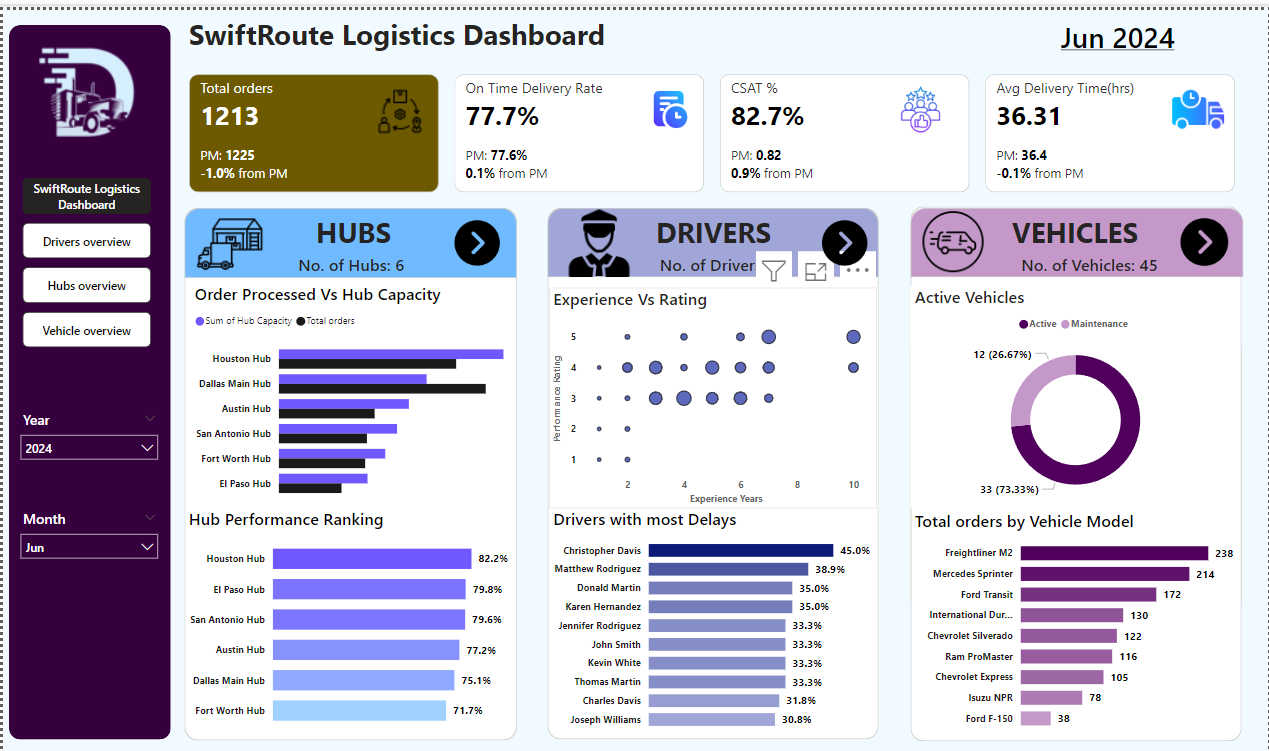

The dashboard page shown, as its layout file describes it:
{"tool":"powerbi","page":{"name":"SwiftRoute Logistics Dashboard","canvas":[1450,850],"ordinal":0},"visuals":[{"type":"shape","box":[6.2,16.7,185.4,818.8],"z":0},{"type":"textbox","box":[207.8,0,517.6,64.7],"z":1000},{"type":"cardVisual","fields":{"Data":["Orders.Total orders","Orders.On Time Delivery Rate","Orders.CSAT %","Orders.Avg Delivery Time(hrs)"]},"box":[208,64,1210,150],"z":2000},{"type":"slicer","fields":{"Values":["Date Table.Year"]},"box":[7.6,450.4,183.9,73.2],"z":3000},{"type":"slicer","fields":{"Values":["Date Table.Month"]},"box":[7.6,562.9,183.9,73.2],"z":4000},{"type":"shape","box":[207.8,227.5,380.4,609.8],"z":5000},{"type":"shape","box":[207.8,227.5,380.4,80],"z":6000},{"type":"textbox","box":[212.5,227.1,377.1,64.6],"z":7000},{"type":"cardVisual","fields":{"Data":["Hubs.No. of Hubs"]},"box":[320.8,272.9,160.4,39.6],"z":8000},{"type":"clusteredBarChart","title":"Order Processed Vs Hub Capacity","fields":{"Category":["Hubs.HubName"],"Y":["Sum(Hubs.Hub Capacity)","Orders.Total orders"]},"box":[215.4,313.5,376.9,257.7],"z":9000},{"type":"barChart","title":"Hub Performance Ranking","fields":{"Category":["Hubs.HubName"],"Y":["Orders.On Time Delivery Rate"]},"box":[207.7,571.2,376.9,263.5],"z":10000},{"type":"shape","box":[622.9,227.1,379.2,608.3],"z":11000},{"type":"shape","box":[1039.6,225,379.2,612.5],"z":12000},{"type":"shape","box":[622.9,227.1,379.2,79.2],"z":13000},{"type":"shape","box":[1039.6,227.1,381.2,79.2],"z":14000},{"type":"textbox","box":[625,227.1,377.1,64.6],"z":15000},{"type":"cardVisual","fields":{"Data":["Drivers.No. of Drivers"]},"box":[735.4,272.9,202.1,39.6],"z":16000},{"type":"textbox","box":[1039.6,227.1,377.1,64.6],"z":17000},{"type":"cardVisual","fields":{"Data":["Orders.No. of Vehicles"]},"box":[1150,273.1,211.5,40.4],"z":18000},{"type":"scatterChart","title":"Experience Vs Rating","fields":{"X":["Drivers.Experience Years"],"Y":["Drivers.Performance Rating"],"Size":["Sum(Drivers.Experience Years)1"]},"box":[625,317.3,376.9,253.8],"z":19000},{"type":"barChart","title":"Drivers with most Delays","fields":{"Category":["Orders.Driver Name"],"Y":["Orders.Delayed Delivery Rate"]},"box":[625,571.2,376.9,263.5],"z":20000},{"type":"donutChart","title":"Active Vehicles","fields":{"Category":["Vehicles.Vehicle Status"],"Y":["CountNonNull(Vehicles.Vehicle ID)"]},"box":[1039.6,317,377.4,254.7],"z":21000},{"type":"barChart","fields":{"Category":["Vehicles.Vehicle Model"],"Y":["Orders.Total orders"]},"box":[1039.6,571.7,377.4,262.3],"z":22000},{"type":"image","box":[1.9,32.1,190.6,132.1],"z":23000},{"type":"cardVisual","fields":{"Data":["Orders.Year Month Title"]},"box":[1137.7,11.3,279.2,39.6],"z":24000},{"type":"image","box":[937.5,226.8,51.8,80.4],"z":25000},{"type":"image","box":[517.9,226.8,51.8,80.4],"z":26000},{"type":"pageNavigator","box":[22.6,192.5,147.2,194.3],"z":27000},{"type":"image","box":[1349.1,224.5,54.7,81.1],"z":28000},{"type":"image","box":[628.3,228.3,107.5,77.4],"z":28001},{"type":"image","box":[215.1,228.3,90.6,79.2],"z":28002},{"type":"image","box":[1052.8,224.5,69.8,81.1],"z":28003},{"type":"image","box":[724.5,86.8,79.2,52.8],"z":28004},{"type":"image","box":[1007.5,86.8,88.7,52.8],"z":28005},{"type":"image","box":[1335.8,79.2,67.9,69.8],"z":28007},{"type":"image","box":[430.2,84.9,50.9,64.2],"z":28008}]}

Visuals, with their boxes on the page's 1450x850 design canvas (x1, y1, x2, y2). These are canvas units, not pixel positions in the 1269x751 screenshot, which may show the page scaled, cropped or inside an application window:
shape: [left=6, top=17, right=192, bottom=836]
textbox: [left=208, top=0, right=725, bottom=65]
cardVisual - Orders.Total orders x Orders.On Time Delivery Rate: [left=208, top=64, right=1418, bottom=214]
slicer - Date Table.Year: [left=8, top=450, right=192, bottom=524]
slicer - Date Table.Month: [left=8, top=563, right=192, bottom=636]
shape: [left=208, top=228, right=588, bottom=837]
shape: [left=208, top=228, right=588, bottom=308]
textbox: [left=212, top=227, right=590, bottom=292]
cardVisual - Hubs.No. of Hubs: [left=321, top=273, right=481, bottom=312]
"Order Processed Vs Hub Capacity" clusteredBarChart: [left=215, top=314, right=592, bottom=571]
"Hub Performance Ranking" barChart: [left=208, top=571, right=585, bottom=835]
shape: [left=623, top=227, right=1002, bottom=835]
shape: [left=1040, top=225, right=1419, bottom=838]
shape: [left=623, top=227, right=1002, bottom=306]
shape: [left=1040, top=227, right=1421, bottom=306]
textbox: [left=625, top=227, right=1002, bottom=292]
cardVisual - Drivers.No. of Drivers: [left=735, top=273, right=938, bottom=312]
textbox: [left=1040, top=227, right=1417, bottom=292]
cardVisual - Orders.No. of Vehicles: [left=1150, top=273, right=1362, bottom=314]
"Experience Vs Rating" scatterChart: [left=625, top=317, right=1002, bottom=571]
"Drivers with most Delays" barChart: [left=625, top=571, right=1002, bottom=835]
"Active Vehicles" donutChart: [left=1040, top=317, right=1417, bottom=572]
barChart - Vehicles.Vehicle Model x Orders.Total orders: [left=1040, top=572, right=1417, bottom=834]
image: [left=2, top=32, right=192, bottom=164]
cardVisual - Orders.Year Month Title: [left=1138, top=11, right=1417, bottom=51]
image: [left=938, top=227, right=989, bottom=307]
image: [left=518, top=227, right=570, bottom=307]
pageNavigator: [left=23, top=192, right=170, bottom=387]
image: [left=1349, top=224, right=1404, bottom=306]
image: [left=628, top=228, right=736, bottom=306]
image: [left=215, top=228, right=306, bottom=308]
image: [left=1053, top=224, right=1123, bottom=306]
image: [left=724, top=87, right=804, bottom=140]
image: [left=1008, top=87, right=1096, bottom=140]
image: [left=1336, top=79, right=1404, bottom=149]
image: [left=430, top=85, right=481, bottom=149]
